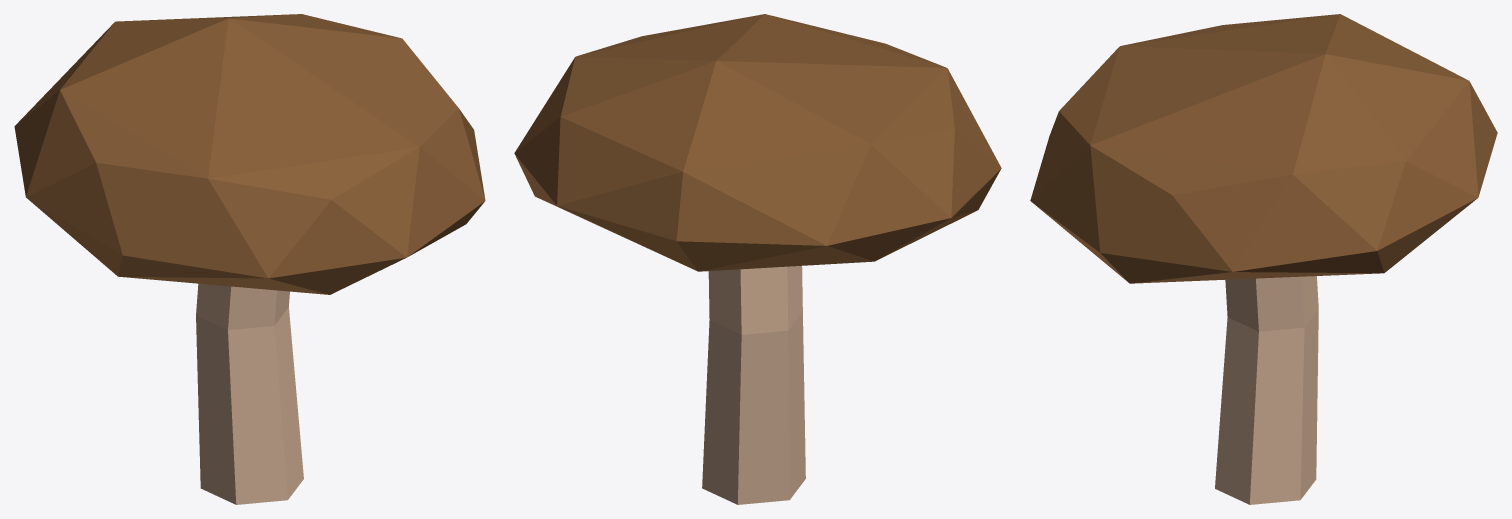
Rendered from SM_Food_Mushroom_01.fbx.
3 renders of one model, left to right at view 1: azimuth 30°, elevation 25°; view 2: azimuth 150°, elevation 25°; view 3: azimuth 270°, elevation 25°, orthographic. The views are drawn at different scales.
Parts seen in each view (by area): view 1: SM_Food_Mushroom_01; view 2: SM_Food_Mushroom_01; view 3: SM_Food_Mushroom_01.
Part boxes in pixels (<box>): SM_Food_Mushroom_01: <box>14,14,485,504</box>; SM_Food_Mushroom_01: <box>514,14,1001,504</box>; SM_Food_Mushroom_01: <box>1030,14,1497,504</box>.
Size of the model in its own units: 15.03 by 15.22 by 14.88.
